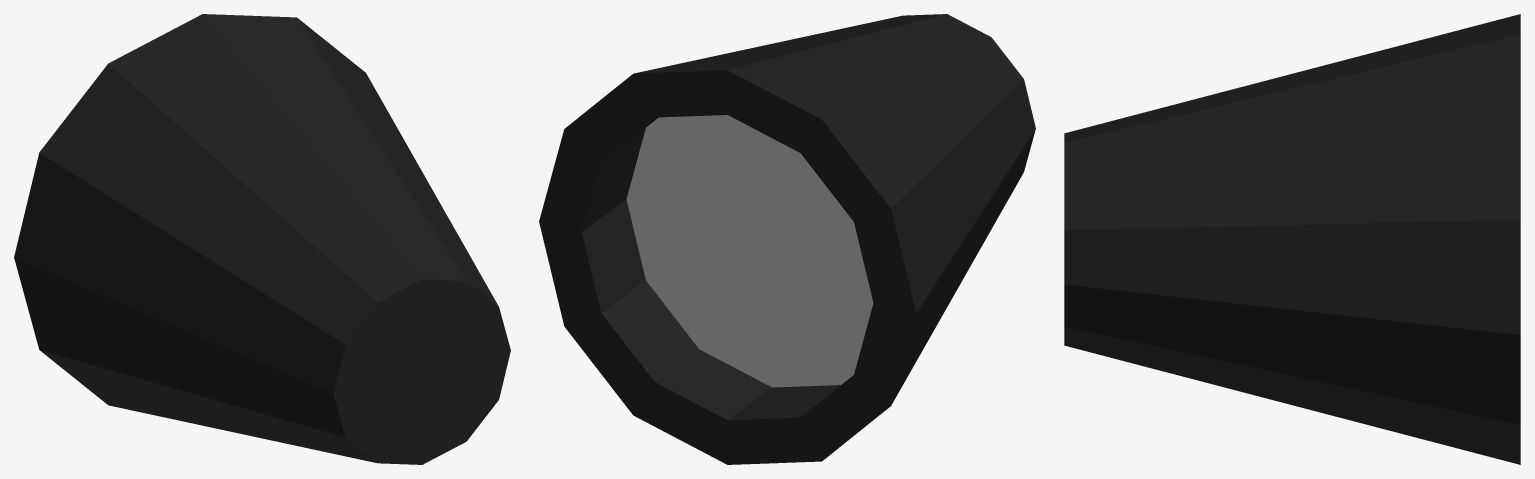
Rendered from exhaust1.glb.
3 renders of one model, left to right at view 1: azimuth 30°, elevation 25°; view 2: azimuth 150°, elevation 25°; view 3: azimuth 270°, elevation 25°, orthographic. The views are drawn at different scales.
Parts seen in each view (by area): view 1: exhaust1; view 2: exhaust1; view 3: exhaust1.
Boxes of the visible parts, box(x1,y1,x2,y2) form: exhaust1: box(14, 14, 510, 464); exhaust1: box(539, 14, 1035, 464); exhaust1: box(1064, 14, 1520, 464).
Bounding box in the file's own units: 0.6557 × 0.6557 × 0.661.
Materials: 1 (1 with a texture image).
